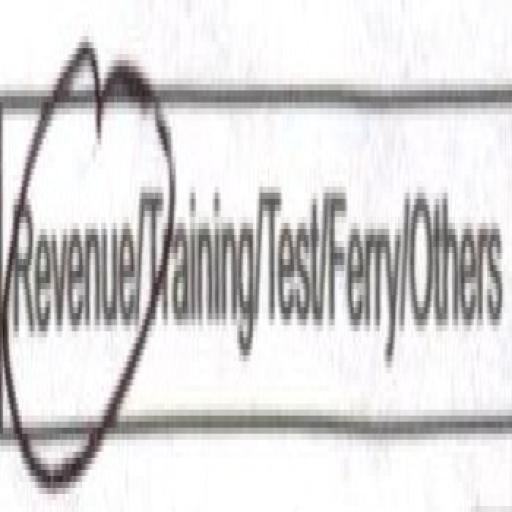check: (0, 24, 147, 494)
